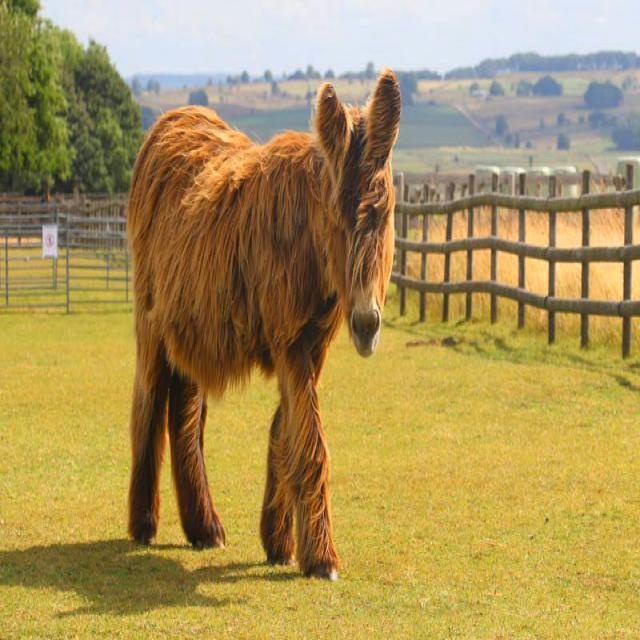donkey: (128, 68, 400, 580)
